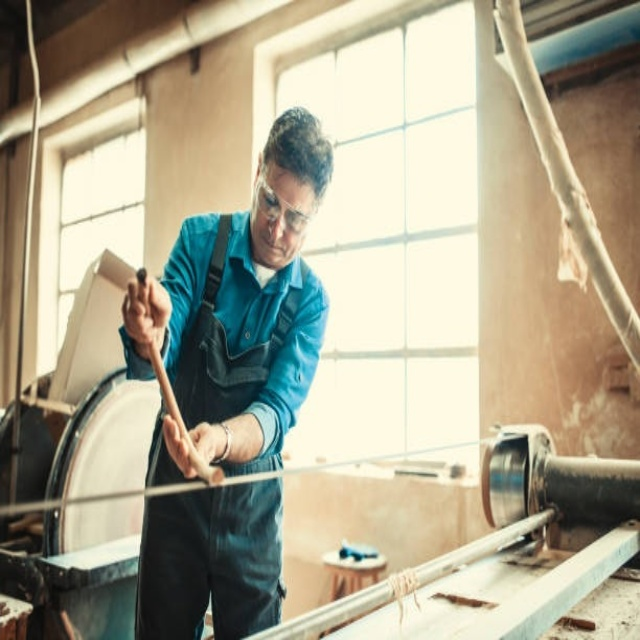Gafas: (259, 165, 315, 235)
Sin_guantes: (161, 413, 218, 483), (122, 275, 172, 354)
Sin_mascara: (264, 237, 288, 256)
